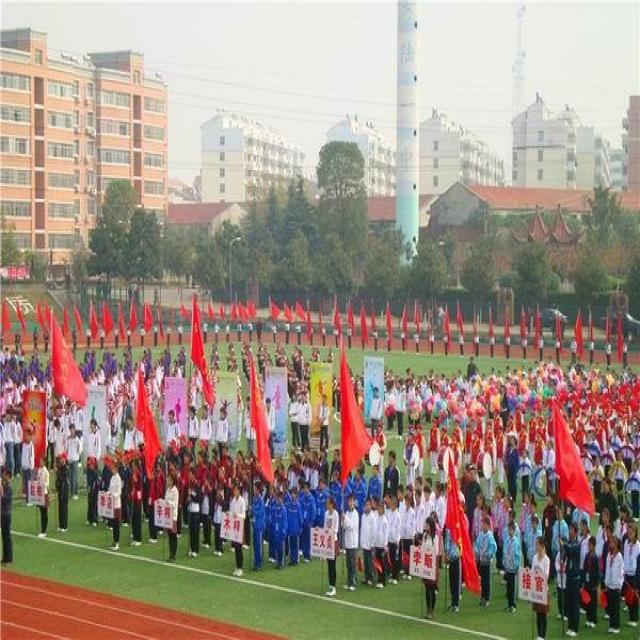non-fight: (554, 520, 584, 634), (416, 524, 441, 620), (527, 536, 550, 638), (498, 519, 522, 616), (580, 531, 603, 630), (226, 486, 250, 576), (320, 496, 341, 598), (621, 512, 639, 628), (156, 473, 179, 563), (343, 494, 360, 591), (63, 422, 83, 501), (82, 459, 103, 529), (367, 382, 387, 451), (108, 460, 122, 552)
